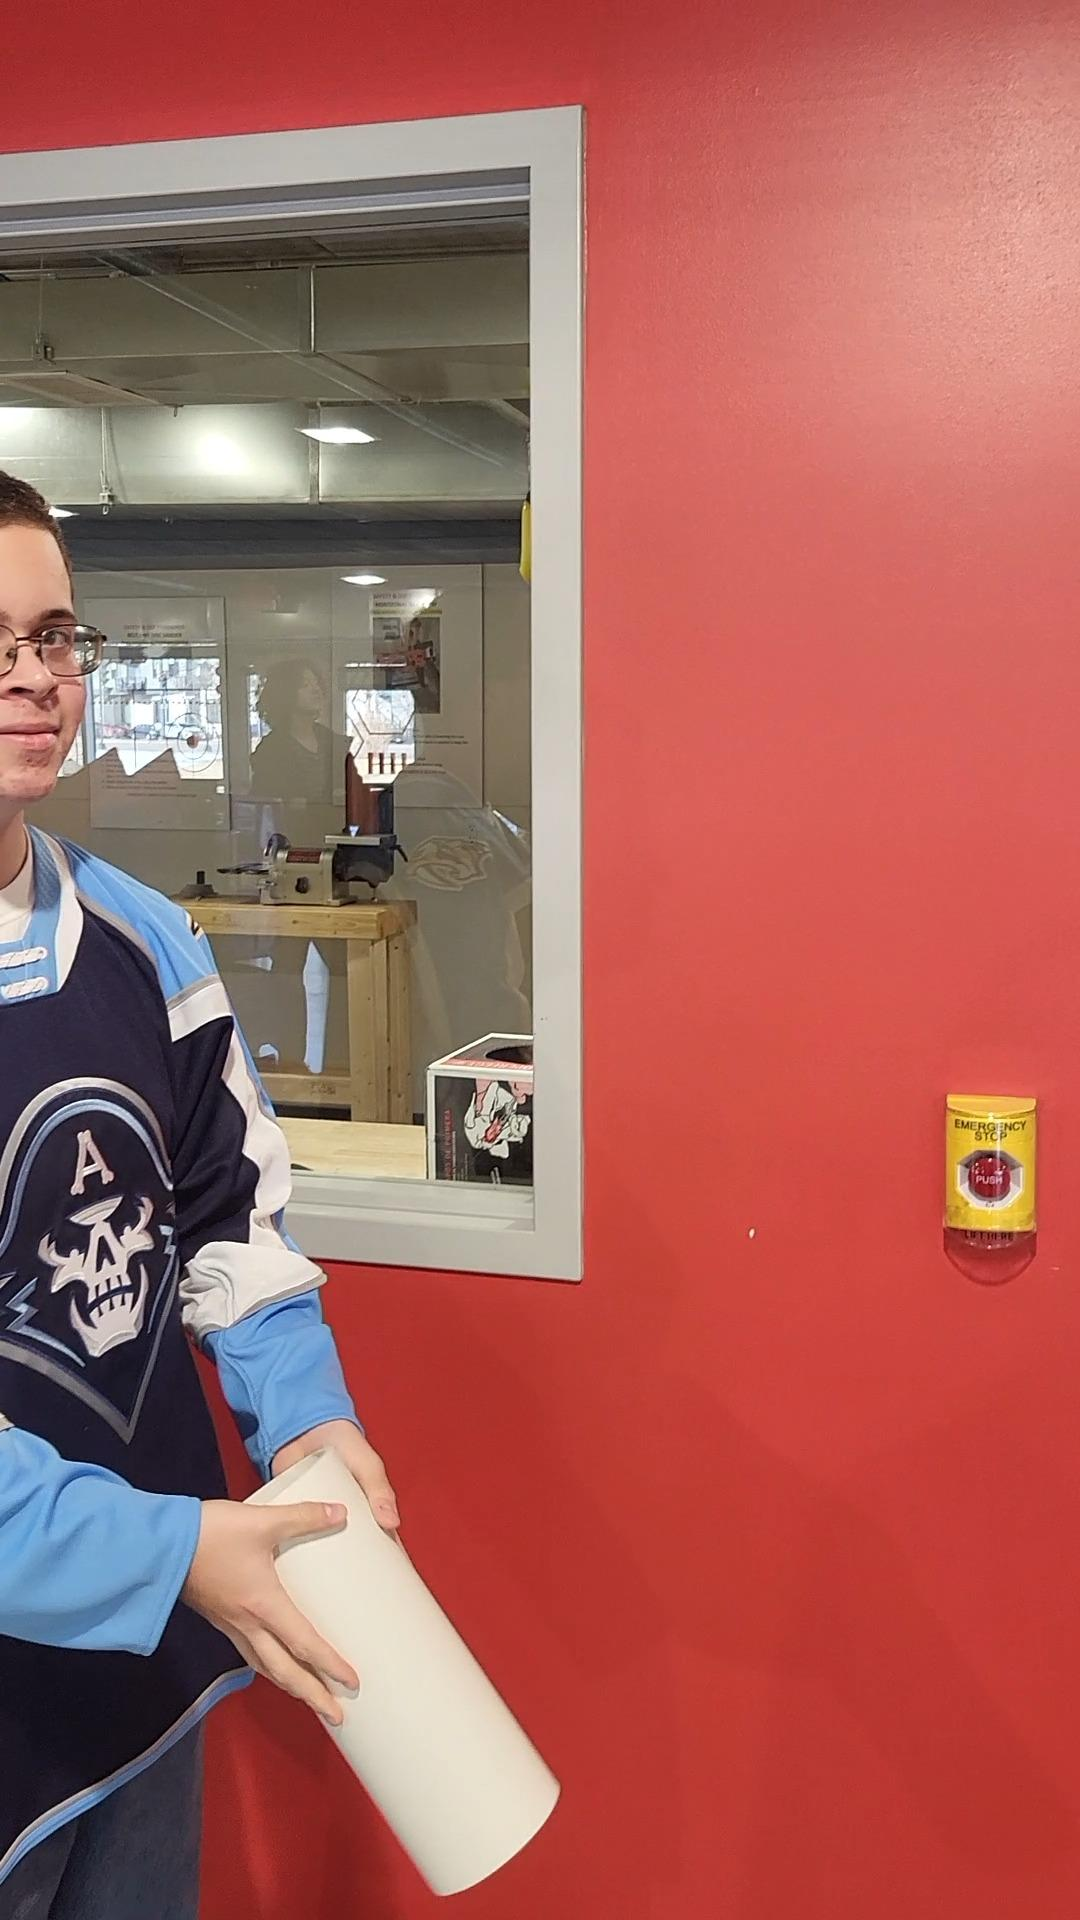coral: (229, 1444, 570, 1919)
